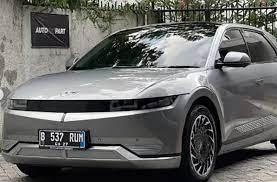plate: (39, 131, 86, 149)
